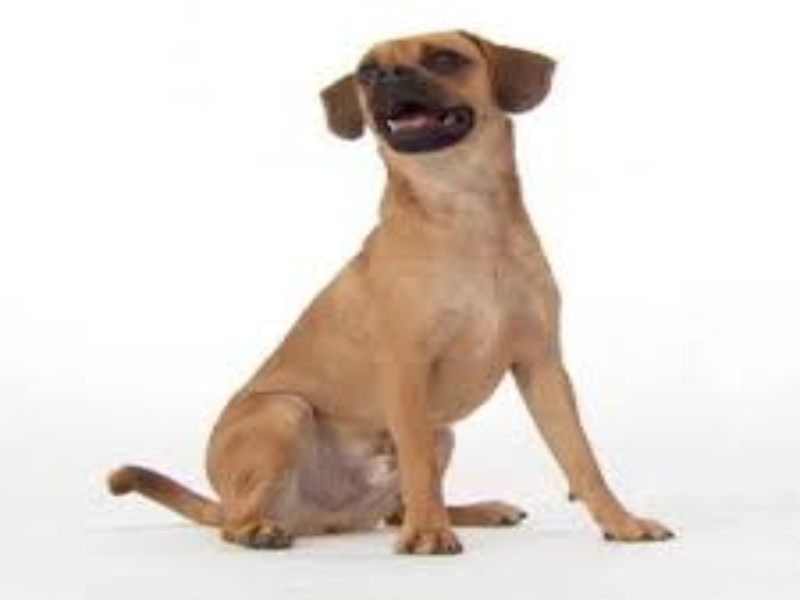dog: (206, 26, 681, 565)
